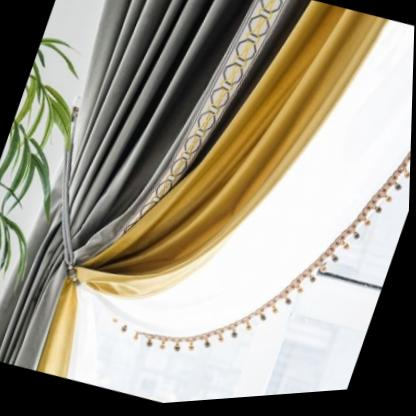Curtains: (0, 0, 415, 380)
